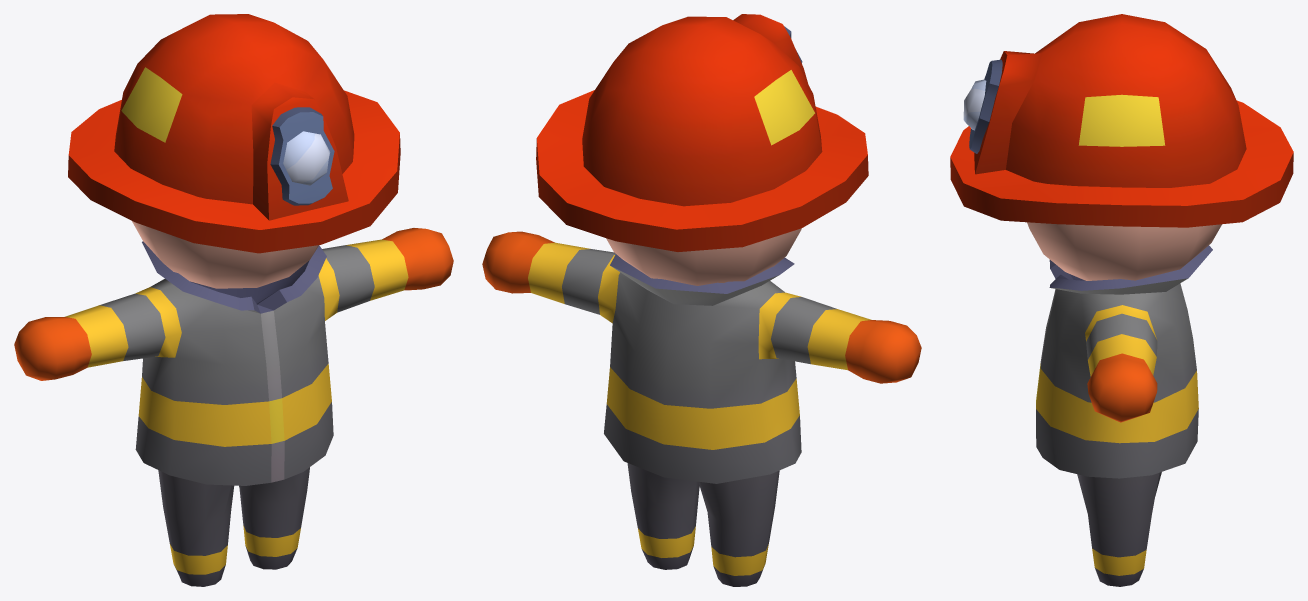
The model's file is Fireman.fbx.
3 views of the same model, side by side, from view 1: azimuth 30°, elevation 25°; view 2: azimuth 150°, elevation 25°; view 3: azimuth 270°, elevation 25° (orthographic).
Visible parts, largest first — view 1: Fireman; view 2: Fireman; view 3: Fireman.
Boxes of the visible parts, bbox=[...] form: Fireman: bbox=[14, 14, 453, 586]; Fireman: bbox=[482, 14, 921, 586]; Fireman: bbox=[950, 14, 1293, 586].
Size of the model in its own units: 5.61 by 6.86 by 3.97.
1 material, 1 textured.
